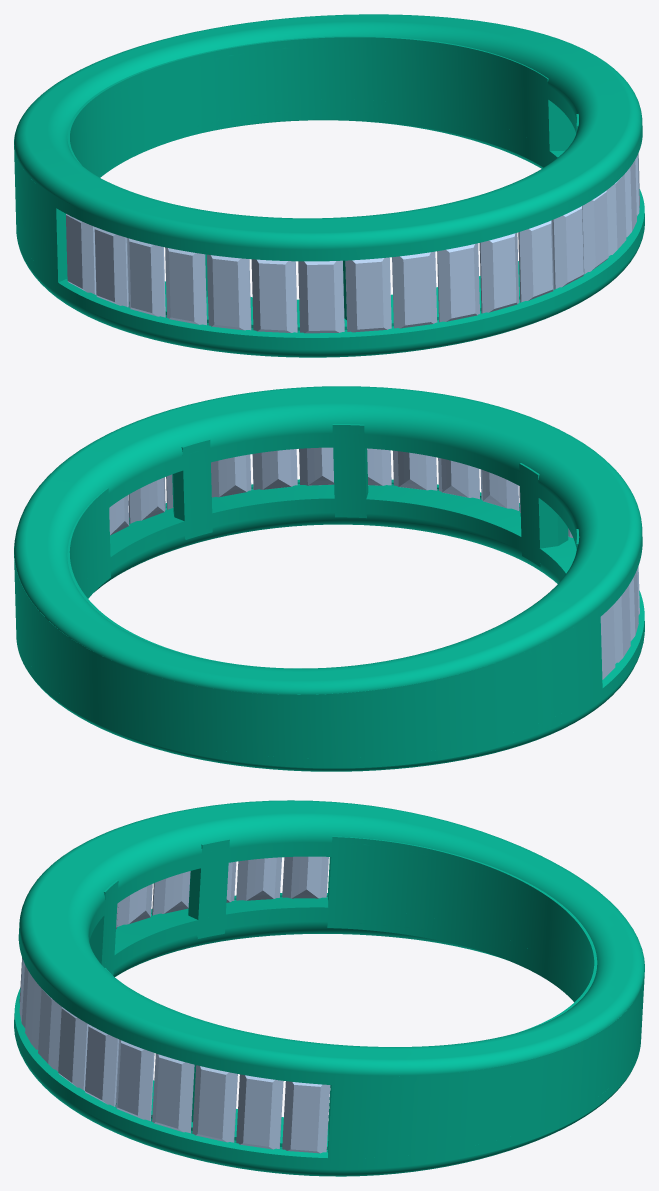
3 renders of one model, top to bottom at view 1: azimuth 30°, elevation 25°; view 2: azimuth 150°, elevation 25°; view 3: azimuth 270°, elevation 25°, orthographic.
Visible parts, largest first — view 1: SIZE - K(base).3dm, Diamond_Baguette Straight (×16); view 2: SIZE - K(base).3dm, Diamond_Baguette Straight (×11); view 3: SIZE - K(base).3dm, Diamond_Baguette Straight (×13).
Boxes of the visible parts, x1,y1,x2,y2 form: SIZE - K(base).3dm: (14, 14, 644, 357); Diamond_Baguette Straight (×16): (66, 160, 636, 333); SIZE - K(base).3dm: (14, 386, 644, 771); Diamond_Baguette Straight (×11): (109, 447, 630, 679); SIZE - K(base).3dm: (14, 800, 644, 1176); Diamond_Baguette Straight (×13): (25, 856, 330, 1153).
Bounding box in the file's own units: 2.78 × 0.6541 × 2.8.
